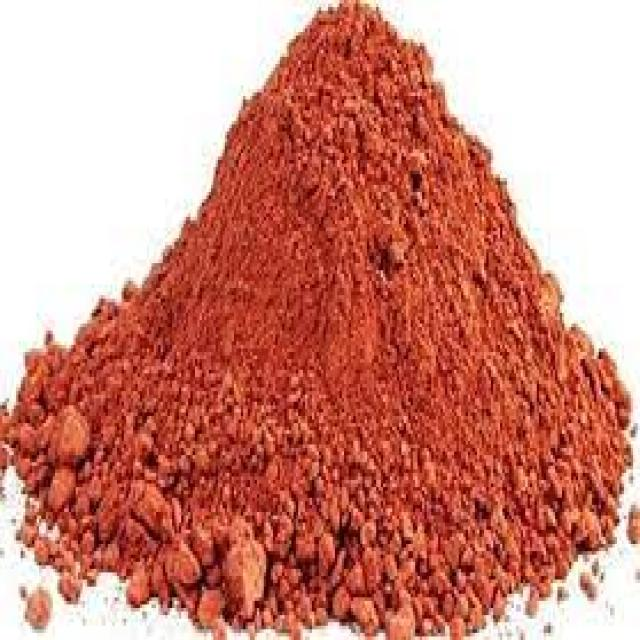Red Soil: (261, 180, 476, 534)
